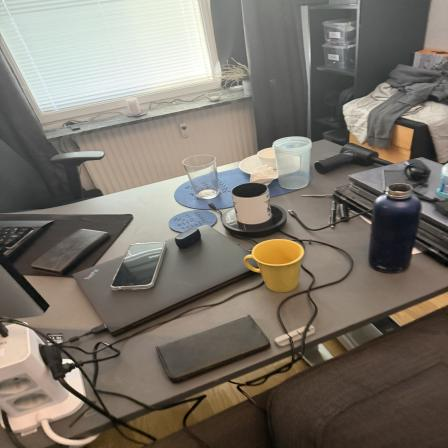blue_bottle: (367, 182, 422, 275)
phone: (156, 317, 270, 379), (30, 226, 112, 276), (115, 241, 167, 290)
yellow_cup: (238, 241, 310, 292)
